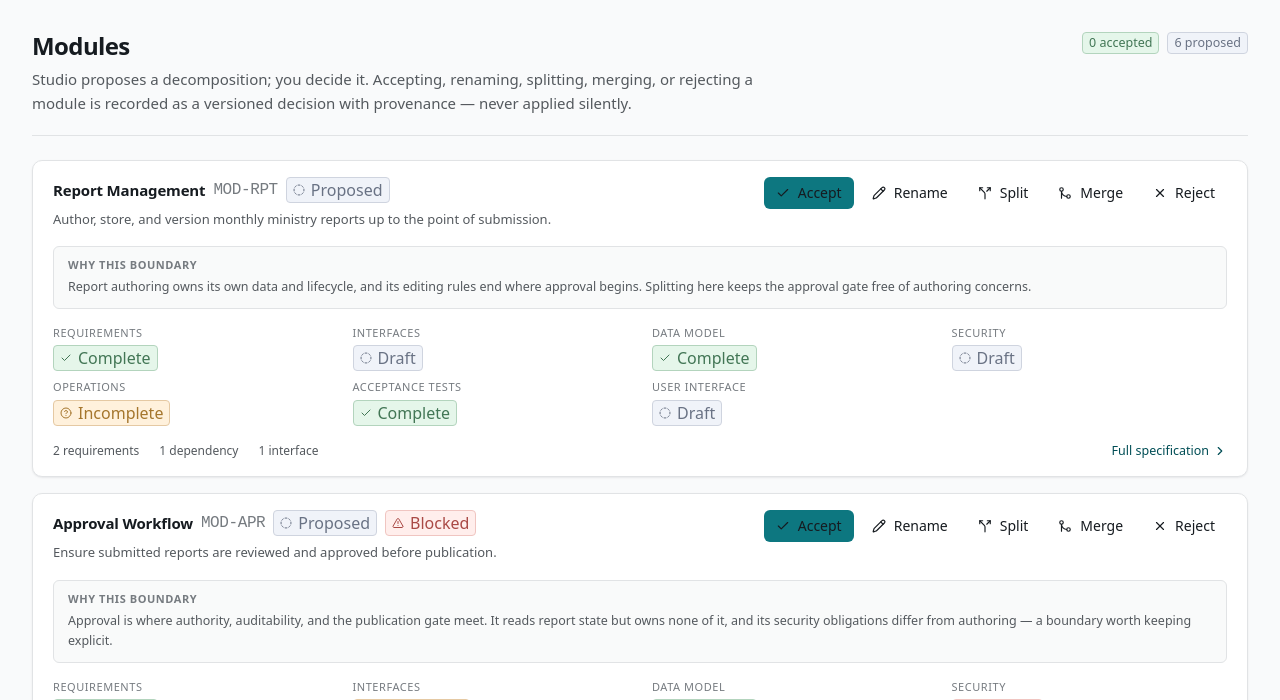
Test case: Modules › records an acceptance when the user curates a module
expect the heading "Report Management" is shown: met, box [53,178,205,201]
Step 1. Click the button "Accept" in the row of "MOD-RPT" → (809, 193), box [764,177,854,209]
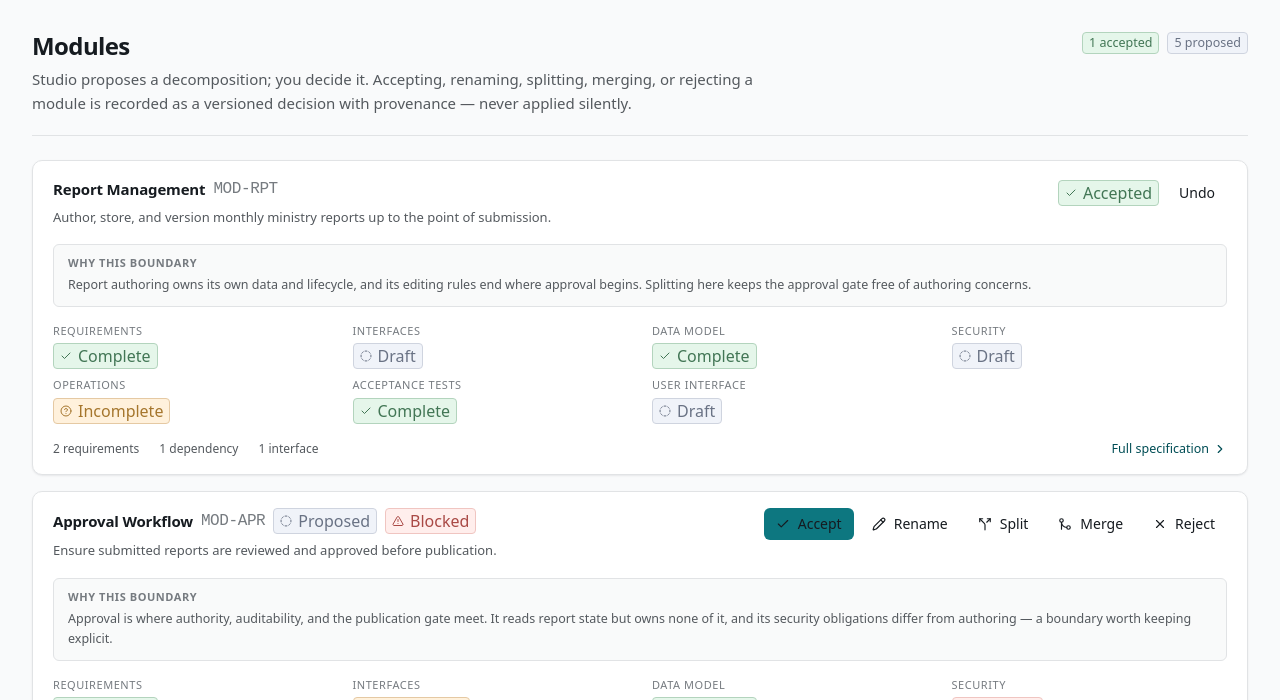
expect the text "Accepted" is shown: met, box [1058,180,1159,206]
